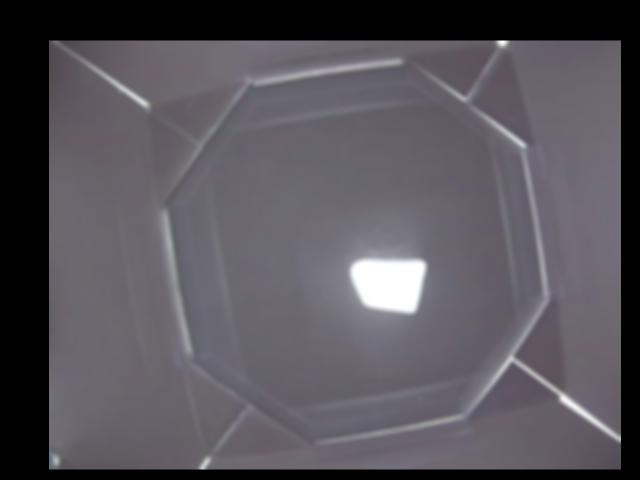Pebble: (343, 260, 427, 313)
